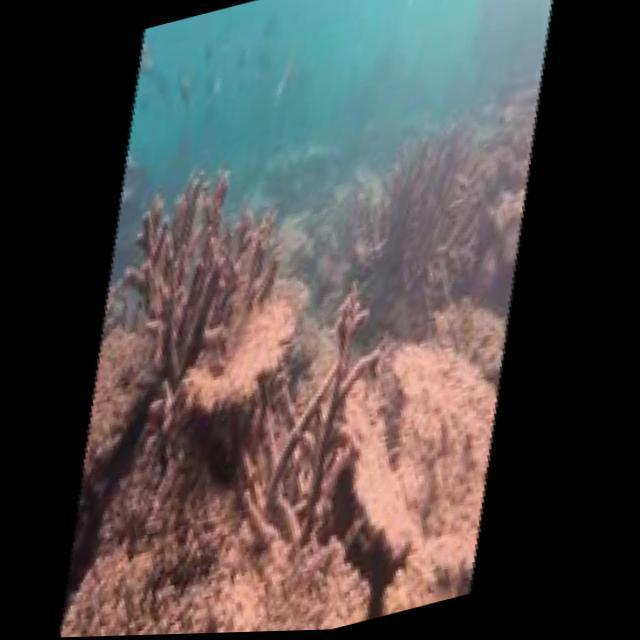Dead Coral: (66, 114, 575, 619), (43, 110, 498, 639), (70, 129, 341, 397)
